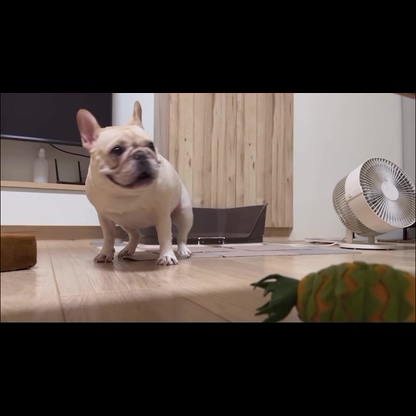bulldog: (72, 98, 198, 269)
